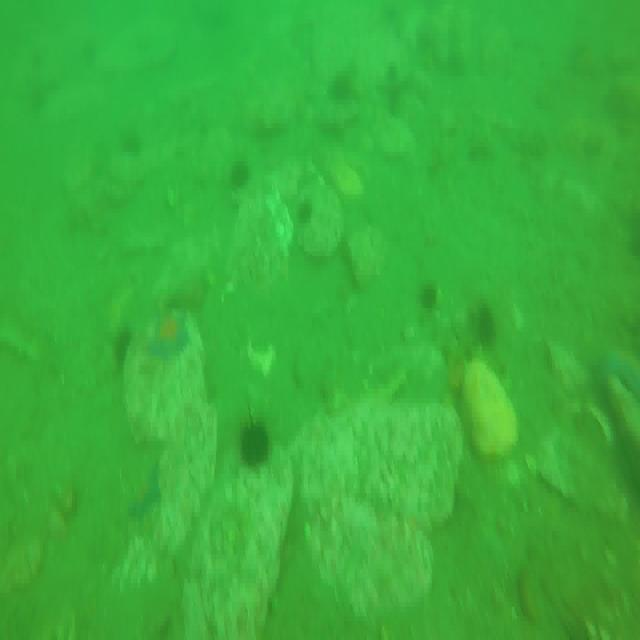echinus: (240, 420, 270, 468), (472, 304, 499, 352), (292, 192, 319, 228), (416, 278, 440, 312), (227, 154, 249, 190), (330, 68, 352, 102)
starfish: (129, 459, 163, 523), (151, 312, 190, 363)
